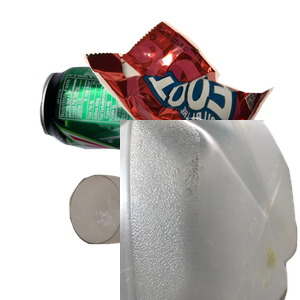glass: (67, 172, 229, 300)
metal: (37, 64, 245, 214)
plastic: (120, 120, 300, 300)
trash: (81, 18, 300, 182)
